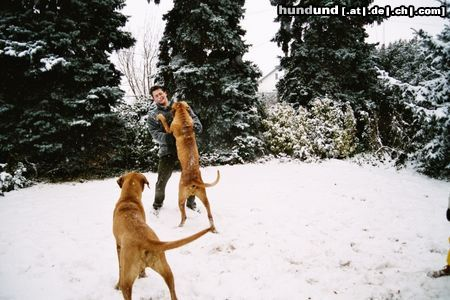human_face: (152, 90, 167, 104)
person: (145, 84, 203, 217)
tosa_inu: (111, 171, 215, 300), (154, 100, 220, 234)
